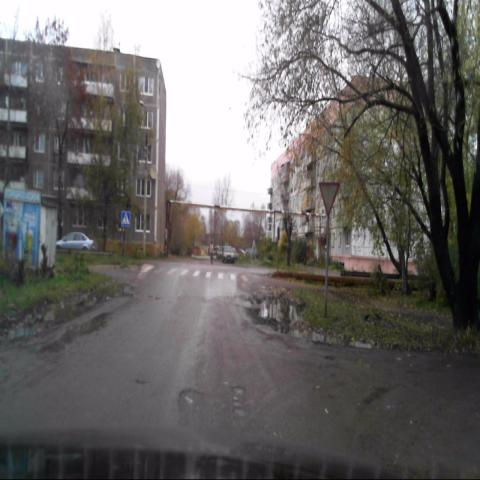1_31: (318, 181, 339, 218)
